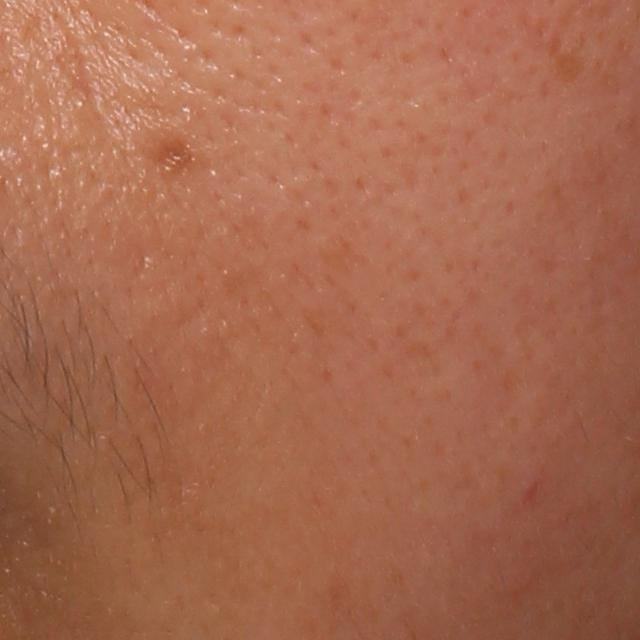nevus: (152, 136, 193, 175)
